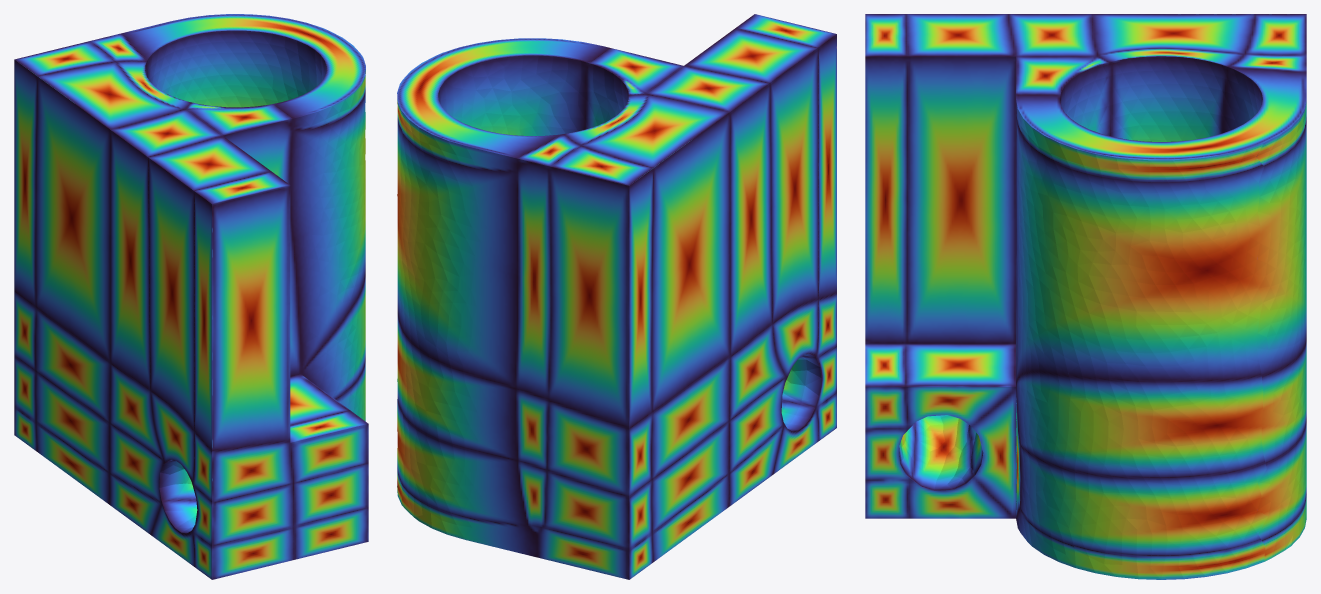
The model's file is gen2.glb.
3 views of the same model, side by side, from view 1: azimuth 30°, elevation 25°; view 2: azimuth 150°, elevation 25°; view 3: azimuth 270°, elevation 25° (orthographic). The views are drawn at different scales.
Visible parts, largest first — view 1: Node; view 2: Node; view 3: Node.
Part boxes in pixels (x1,y1,x2,y2): Node: (14, 14, 368, 579); Node: (397, 14, 836, 579); Node: (865, 14, 1306, 579).
Bounding box in the file's own units: 0.7501 × 1 × 0.9542.
Materials: 1 (1 with a texture image).
